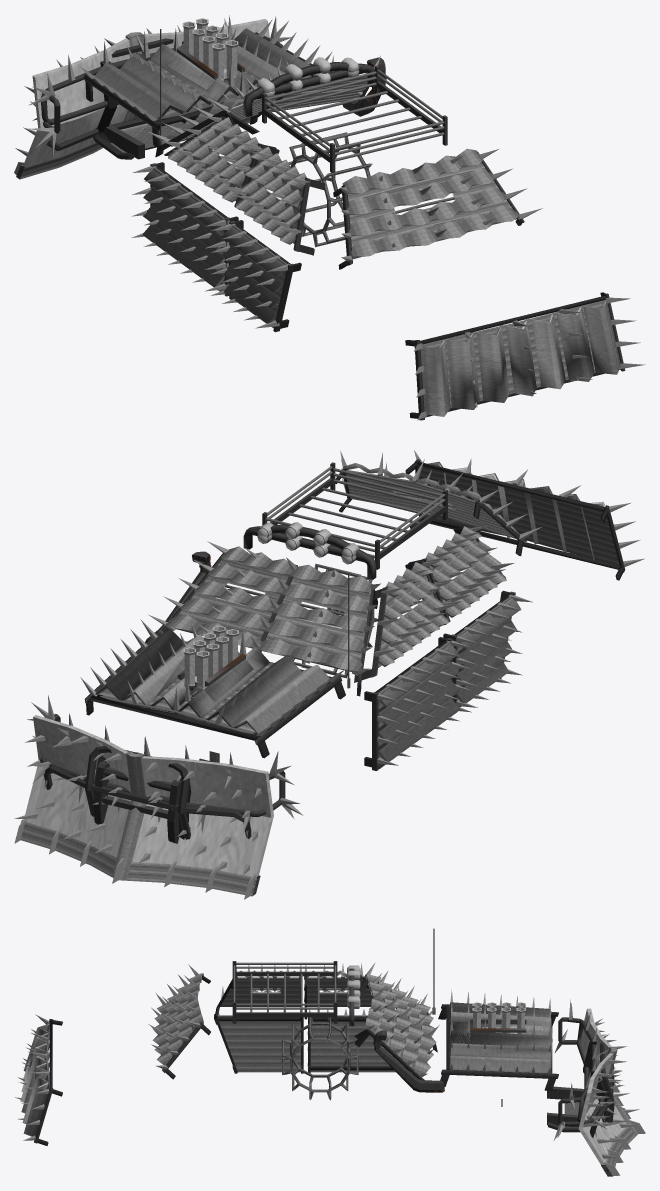
File: CarNormalArmor.fbx
The picture shows the model from 3 angles, top to bottom: view 1: azimuth 30°, elevation 25°; view 2: azimuth 150°, elevation 25°; view 3: azimuth 270°, elevation 25°; orthographic projection. The views are drawn at different scales.
Parts seen in each view (by area): view 1: trunkreinforcedrear, windowreinforcedrear, plow, hoodreinforcedfront, roofrack, doorfrontreinforcedleft, hoodreinforcedfrontscoop, windowrearreinforcedleft, windowheavyspikedrear, trunkheavyspikedrear, windowfrontreinforcedleft, doorrearreinforcedleft (+22 smaller); view 2: plow, windowreinforcedfront, plow_spiked, hoodreinforcedfrontscoop, hoodreinforcedfront, trunkheavyrear, roofrack, doorfrontreinforcedleft, windowheavyfront, windowrearreinforcedleft, windowfrontreinforcedleft, doorrearreinforcedleft (+23 smaller); view 3: hoodreinforcedfront, hoodreinforcedfrontscoop, plow, windowreinforcedfront, doorrearheavyleft, roofrack, doorfrontheavyleft, windowreinforcedrear, trunkreinforcedrear, chaintires, doorrearheavyspikedleft, windowrearheavyleft (+20 smaller).
Part boxes in pixels (x1,y1,x2,y2): trunkreinforcedrear: (420, 296, 621, 417); windowreinforcedrear: (342, 148, 519, 257); plow: (14, 19, 269, 179); hoodreinforcedfront: (95, 28, 313, 146); roofrack: (262, 65, 447, 173); doorfrontreinforcedleft: (143, 166, 227, 291); hoodreinforcedfrontscoop: (95, 28, 309, 142); windowrearreinforcedleft: (235, 145, 325, 255); windowheavyspikedrear: (333, 149, 542, 269); trunkheavyspikedrear: (405, 293, 645, 420); windowfrontreinforcedleft: (168, 117, 258, 202); doorrearreinforcedleft: (222, 224, 290, 328); plow: (14, 715, 273, 899); windowreinforcedfront: (165, 546, 377, 672); plow_spiked: (14, 717, 270, 875); hoodreinforcedfrontscoop: (89, 628, 340, 740); hoodreinforcedfront: (89, 629, 344, 738); trunkheavyrear: (405, 460, 624, 580); roofrack: (262, 462, 447, 569); doorfrontreinforcedleft: (375, 641, 460, 768); windowheavyfront: (162, 553, 373, 696); windowrearreinforcedleft: (408, 526, 506, 622); windowfrontreinforcedleft: (378, 562, 448, 666); doorrearreinforcedleft: (454, 595, 521, 707); hoodreinforcedfront: (442, 1002, 555, 1086); hoodreinforcedfrontscoop: (443, 1002, 554, 1090); plow: (577, 1008, 645, 1176); windowreinforcedfront: (354, 974, 436, 1074); doorrearheavyleft: (214, 1019, 303, 1073); roofrack: (232, 961, 337, 1023); doorfrontheavyleft: (308, 1017, 408, 1073); windowreinforcedrear: (152, 973, 203, 1065); trunkreinforcedrear: (20, 1021, 52, 1136); chaintires: (282, 1017, 358, 1100); doorrearheavyspikedleft: (214, 1010, 303, 1073); windowrearheavyleft: (220, 978, 300, 1006).
Bounding box in the file's own units: 278 × 225 × 751.
